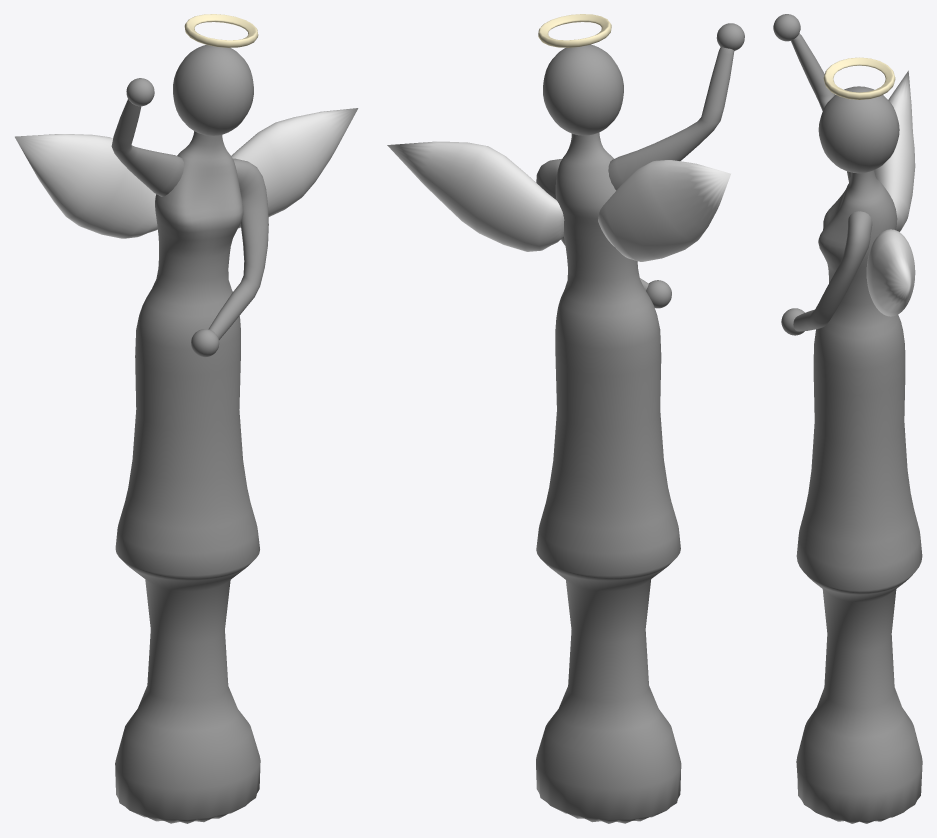
File: Statue.fbx
The picture shows the model from 3 angles, left to right: view 1: azimuth 30°, elevation 25°; view 2: azimuth 150°, elevation 25°; view 3: azimuth 270°, elevation 25°; orthographic projection. The views are drawn at different scales.
Parts seen in each view (by area): view 1: Body, Wing_R, Wing_L, Head, Arm_L, Arm_R, Ring, Hand_R, Hand_L; view 2: Body, Wing_L, Wing_R, Head, Arm_R, Ring, Arm_L; view 3: Body, Head, Wing_L, Wing_R, Arm_L, Ring, Arm_R, Hand_R, Hand_L.
Part boxes in pixels (bbox=[...]): Body: bbox=[115, 131, 260, 823]; Wing_R: bbox=[15, 134, 157, 238]; Wing_L: bbox=[231, 108, 358, 228]; Head: bbox=[173, 45, 253, 135]; Arm_L: bbox=[208, 158, 268, 339]; Arm_R: bbox=[111, 99, 184, 196]; Ring: bbox=[184, 14, 258, 47]; Hand_R: bbox=[126, 78, 154, 106]; Hand_L: bbox=[191, 329, 219, 357]; Body: bbox=[536, 132, 681, 823]; Wing_L: bbox=[387, 141, 564, 251]; Wing_R: bbox=[598, 160, 730, 261]; Head: bbox=[543, 44, 623, 135]; Arm_R: bbox=[608, 47, 734, 190]; Ring: bbox=[538, 14, 611, 47]; Arm_L: bbox=[536, 159, 648, 290]; Body: bbox=[796, 170, 922, 823]; Head: bbox=[818, 86, 899, 173]; Wing_L: bbox=[866, 229, 915, 316]; Wing_R: bbox=[874, 70, 915, 231]; Arm_L: bbox=[793, 211, 872, 331]; Ring: bbox=[823, 57, 895, 99]; Arm_R: bbox=[791, 33, 850, 182]; Hand_R: bbox=[773, 14, 800, 41]; Hand_L: bbox=[781, 308, 804, 335].
Bounding box in the file's own units: 2.67 × 5.74 × 1.04.
